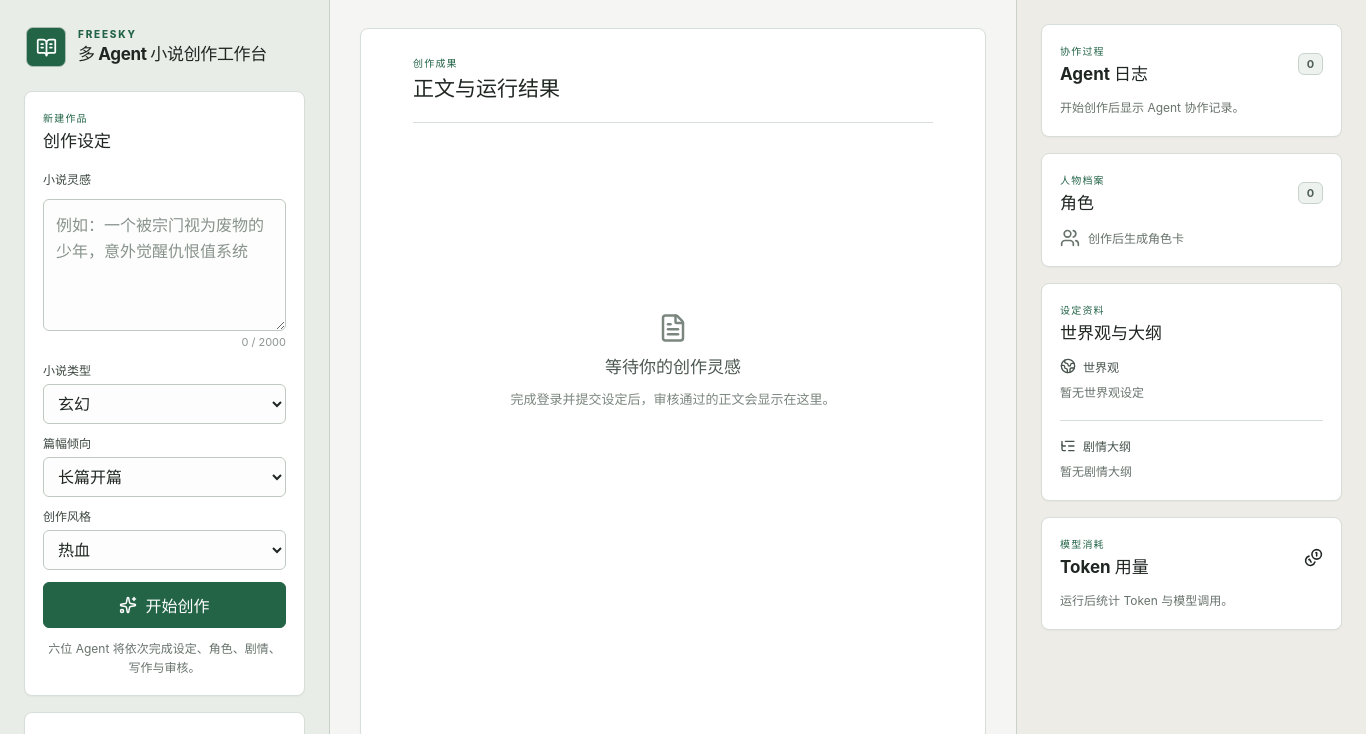
Test case: Freesky 创作工作台 › 灵感为空时显示中文校验且不发送创作请求
The image size is (1366, 734).
Click the button "开始创作": {"x": 164, "y": 605} [43, 582, 286, 628]
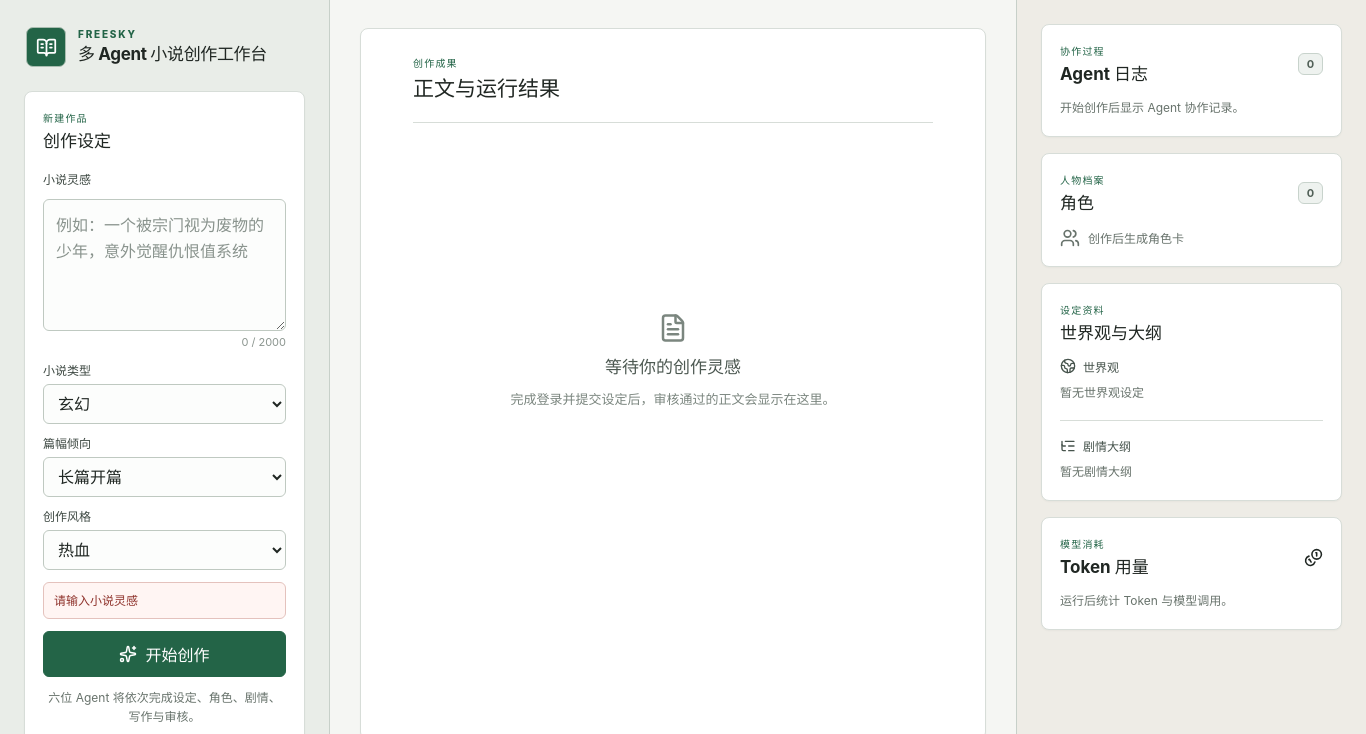
Now the message reads "请输入小说灵感", box [54, 593, 138, 608]
